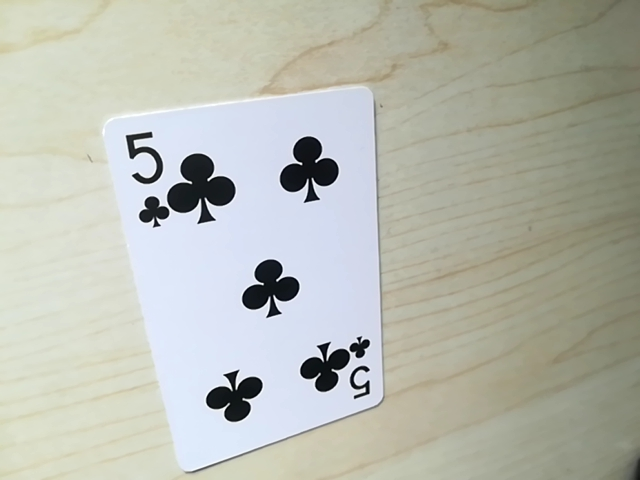mh 5: (119, 123, 181, 233), (334, 334, 376, 407)
